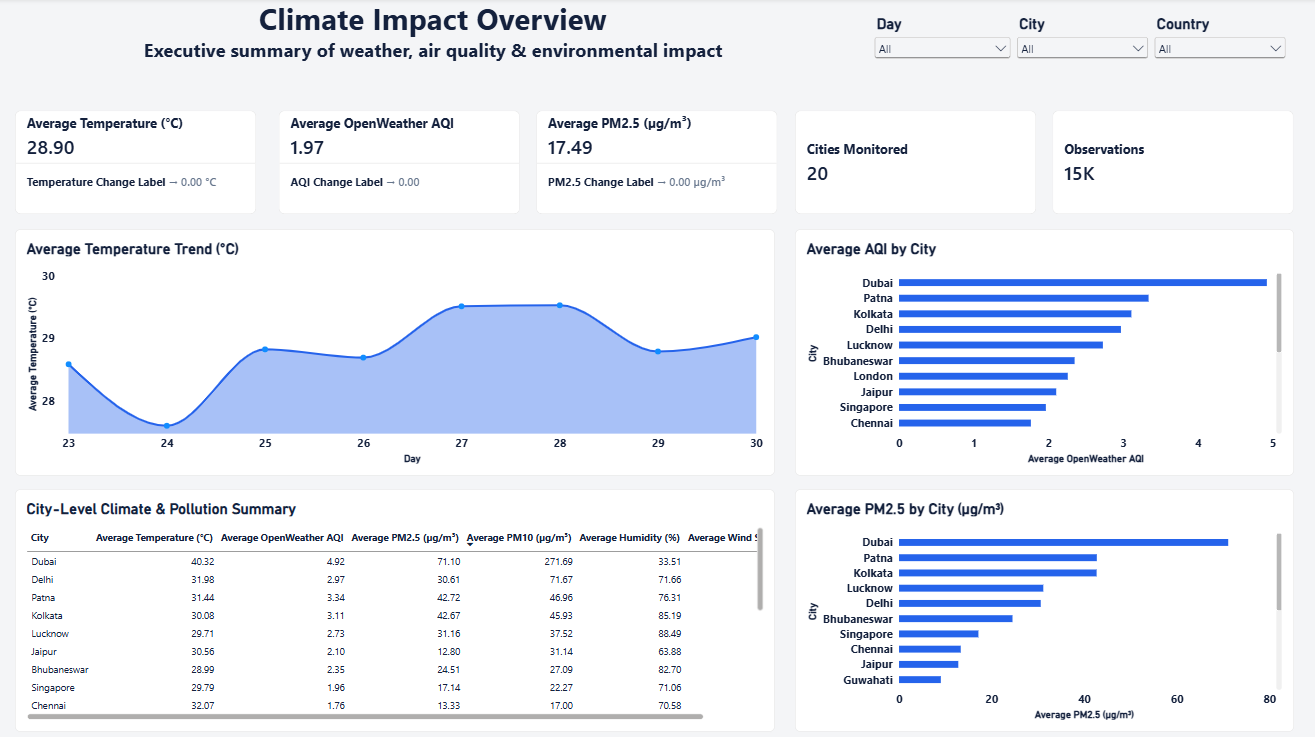

What the dashboard file says about the page in this screenshot:
{"tool":"powerbi","page":{"name":"Climate Impact Overview","canvas":[1920,1080],"ordinal":0},"visuals":[{"type":"textbox","box":[0,0,1268.6,139.3],"z":0},{"type":"cardVisual","fields":{"Data":["measures table.Average Temperature"]},"box":[29,162.9,349.3,150.2],"z":1000},{"type":"cardVisual","fields":{"Data":["measures table.Average AQI"]},"box":[410.8,162.9,349.3,150.2],"z":2000},{"type":"cardVisual","fields":{"Data":["measures table.Average PM2.5"]},"box":[783.6,162.9,349.3,150.2],"z":3000},{"type":"cardVisual","fields":{"Data":["measures table.Observation Count"]},"box":[1531,162.9,349.3,150.2],"z":4000},{"type":"lineChart","title":"Average Temperature Trend (°C)","fields":{"Category":["gold dim_date.full_date.Variation.Date Hierarchy.Day"],"Y":["measures table.Average Temperature"]},"box":[29,334.8,1100.3,356.5],"z":5000},{"type":"clusteredBarChart","title":"Average AQI by City","fields":{"Category":["gold dim_city.city_name"],"Y":["measures table.Average AQI"]},"box":[1158.2,334.8,722.1,356.5],"z":6000},{"type":"clusteredBarChart","title":"Average PM2.5 by City (µg/m³)","fields":{"Category":["gold dim_city.city_name"],"Y":["measures table.Average PM2.5"]},"box":[1158.2,711.2,722.1,351.1],"z":7000},{"type":"tableEx","title":"City-Level Climate & Pollution Summary","fields":{"Values":["gold dim_city.city_name","measures table.Average Temperature","measures table.Average AQI","measures table.Average PM2.5","measures table.Average PM10","measures table.Average Humidity","measures table.Average Wind Speed"]},"box":[29,711.2,1100.3,351.1],"z":8000},{"type":"slicer","fields":{"Values":["gold dim_date.full_date.Variation.Date Hierarchy.Day"]},"box":[1268.6,25.3,206.3,114],"z":9000},{"type":"slicer","fields":{"Values":["gold dim_city.city_name"]},"box":[1474.9,25.3,199.1,114],"z":10000},{"type":"slicer","fields":{"Values":["gold dim_city.country_name"]},"box":[1673.9,25.3,199.1,114],"z":11000},{"type":"cardVisual","fields":{"Data":["CountNonNull(gold dim_city.city_key)"]},"box":[1158.2,162.9,349.3,150.2],"z":12001}]}

Visuals, with their boxes in screenshot pixels (x1, y1, x2, y2), scaled from the page's 1920x1080 canvas onto the 1315x737 screenshot:
textbox: bbox(0, 0, 869, 95)
cardVisual - measures table.Average Temperature: bbox(20, 111, 259, 214)
cardVisual - measures table.Average AQI: bbox(281, 111, 521, 214)
cardVisual - measures table.Average PM2.5: bbox(537, 111, 776, 214)
cardVisual - measures table.Observation Count: bbox(1049, 111, 1288, 214)
"Average Temperature Trend (°C)" lineChart: bbox(20, 228, 773, 472)
"Average AQI by City" clusteredBarChart: bbox(793, 228, 1288, 472)
"Average PM2.5 by City (µg/m³)" clusteredBarChart: bbox(793, 485, 1288, 725)
"City-Level Climate & Pollution Summary" tableEx: bbox(20, 485, 773, 725)
slicer - gold dim_date.full_date.Variation.Date Hierarchy.Day: bbox(869, 17, 1010, 95)
slicer - gold dim_city.city_name: bbox(1010, 17, 1147, 95)
slicer - gold dim_city.country_name: bbox(1146, 17, 1283, 95)
cardVisual - CountNonNull(gold dim_city.city_key): bbox(793, 111, 1032, 214)
